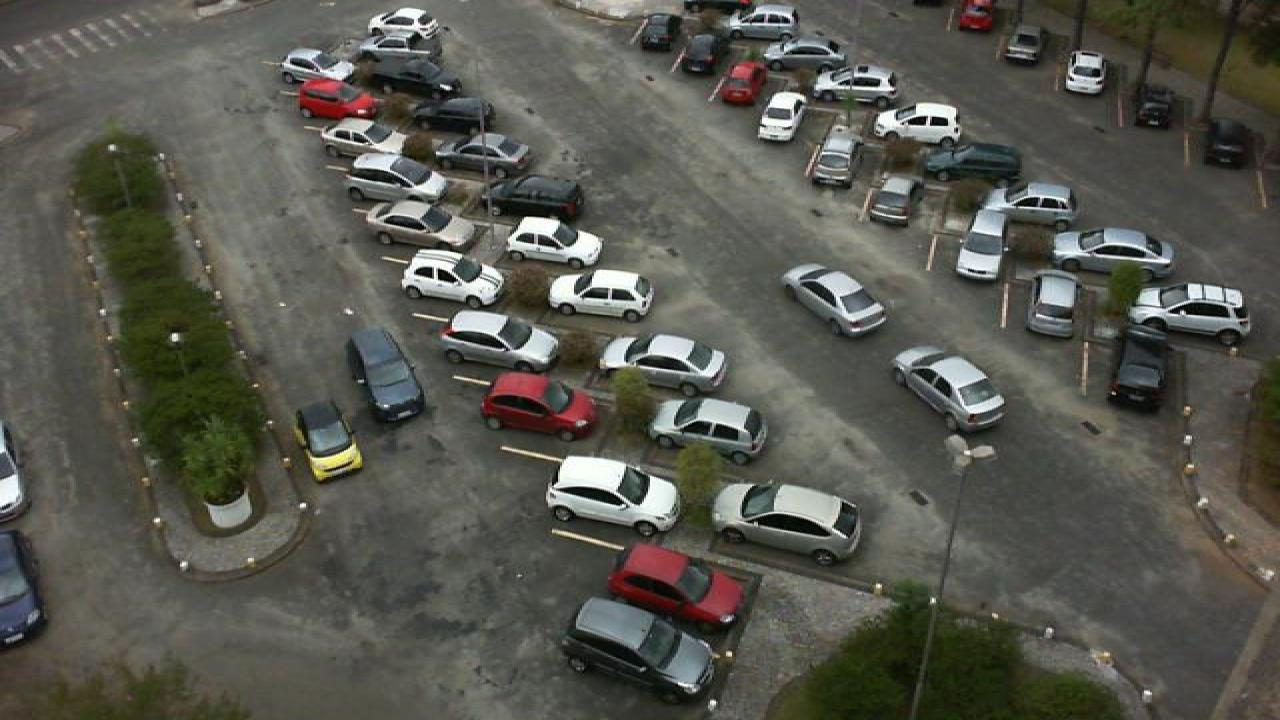Car: (560, 596, 720, 703), (710, 480, 864, 566), (604, 542, 744, 634), (544, 454, 686, 536), (888, 345, 1008, 433), (594, 333, 732, 398), (478, 371, 602, 442), (648, 393, 770, 464), (778, 262, 888, 339), (1126, 282, 1254, 344), (344, 326, 426, 422), (438, 310, 560, 373), (1048, 225, 1178, 275), (400, 249, 508, 308), (294, 398, 366, 484), (546, 266, 656, 322), (364, 198, 478, 250), (342, 152, 450, 205), (502, 215, 606, 269), (1110, 323, 1170, 412), (432, 129, 532, 180), (482, 175, 588, 222), (976, 180, 1080, 227), (922, 142, 1026, 184), (874, 101, 968, 144), (1028, 272, 1090, 336), (294, 75, 378, 120), (952, 217, 1010, 281), (320, 115, 404, 158), (370, 62, 464, 99), (358, 35, 444, 75), (276, 45, 360, 85), (406, 96, 492, 134), (760, 39, 846, 73), (1200, 116, 1254, 170), (818, 62, 902, 96), (726, 4, 800, 42), (866, 173, 920, 224), (368, 6, 440, 42), (674, 28, 730, 74), (714, 61, 768, 108), (808, 139, 858, 188), (1126, 81, 1176, 129), (756, 91, 802, 143), (1062, 49, 1110, 96), (634, 12, 682, 53), (1000, 24, 1048, 65), (956, 0, 998, 33)
